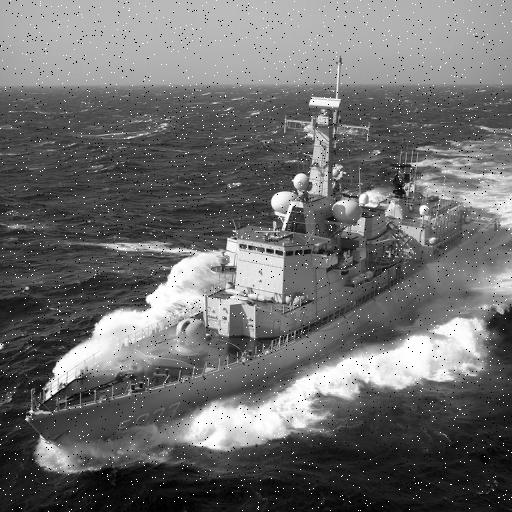Fragata: (1, 25, 345, 468)
